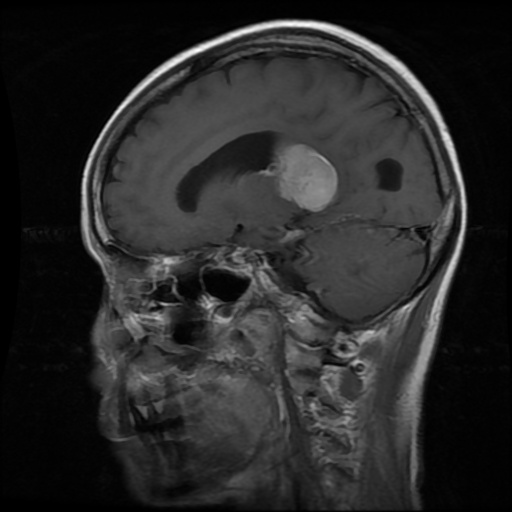meningioma: (274, 142, 338, 211)
